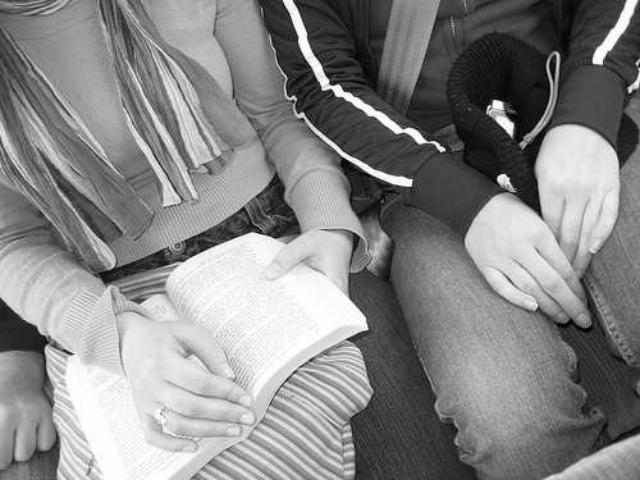Seatbelt: (370, 0, 448, 122)
